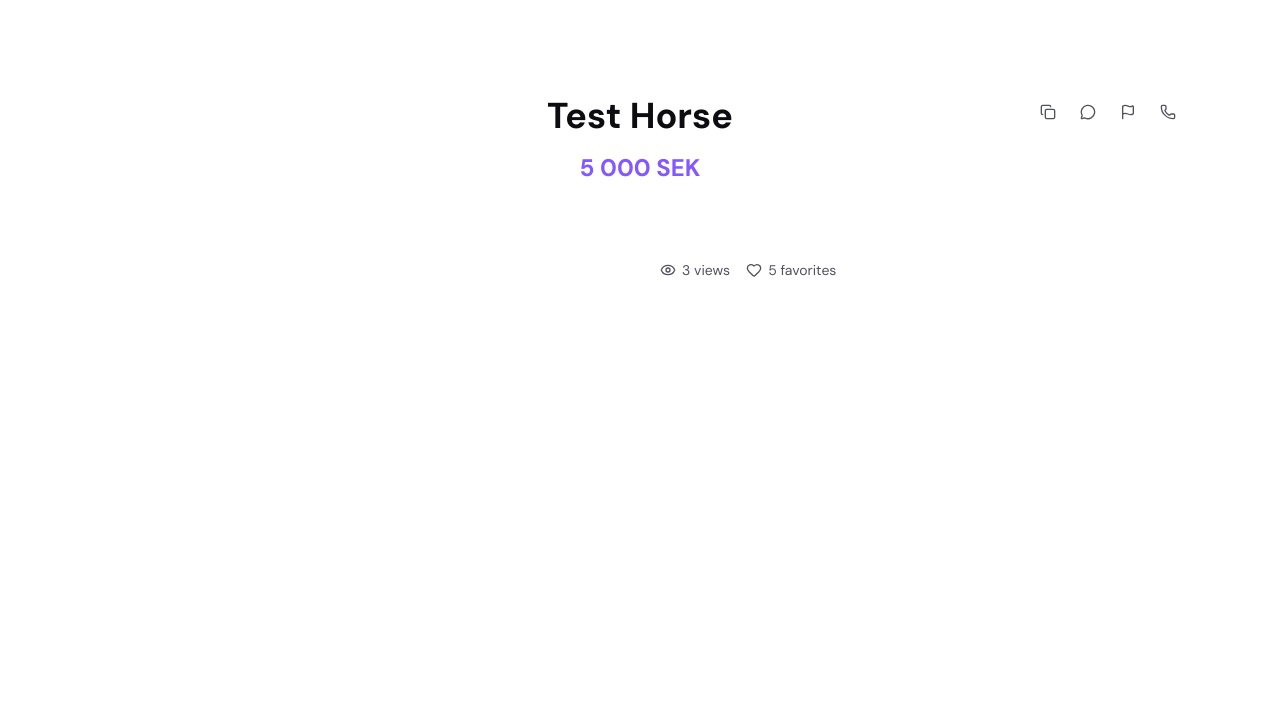
Test: ListingDetail › report listing › when logged in › opens the report dialog when clicked
This screenshot has width=1280, height=720.
Expected: the heading "Test Horse" is shown, left=547, top=92, right=733, bottom=139
Click the button named "report listing" at (1128,112), box left=1112, top=96, right=1144, bottom=128
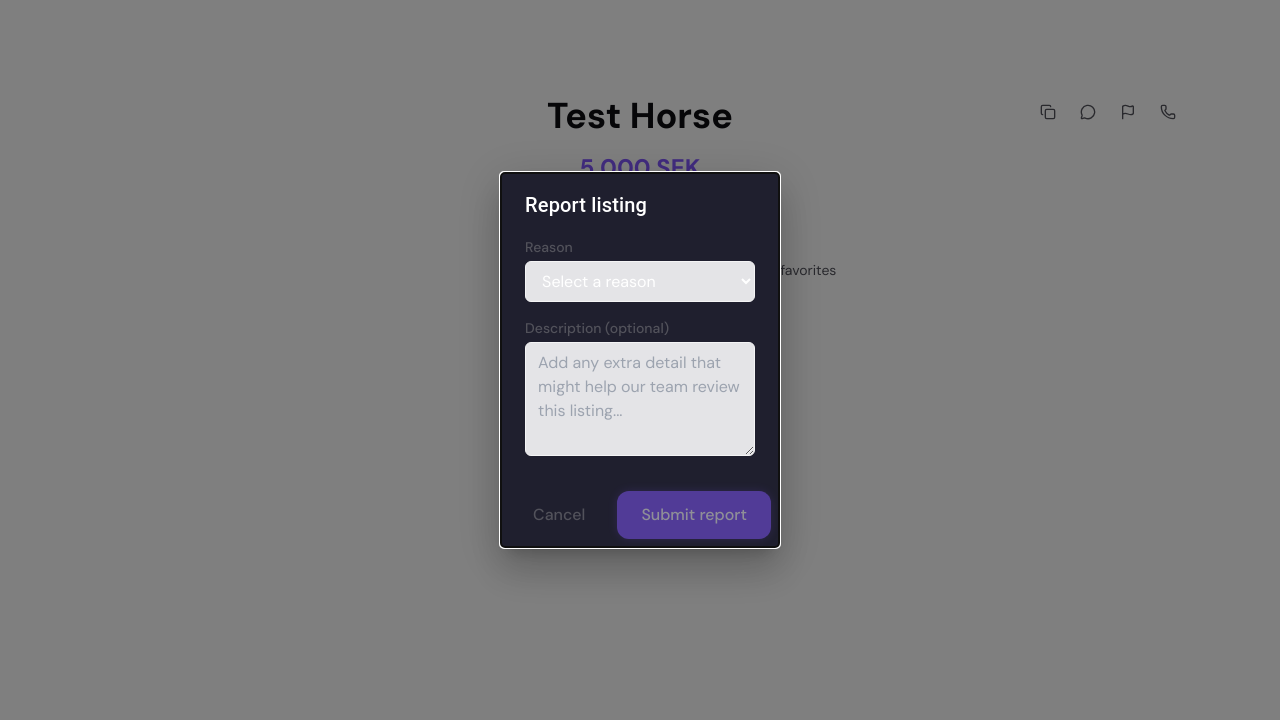
Expected: the dropdown is shown, left=525, top=261, right=755, bottom=302
